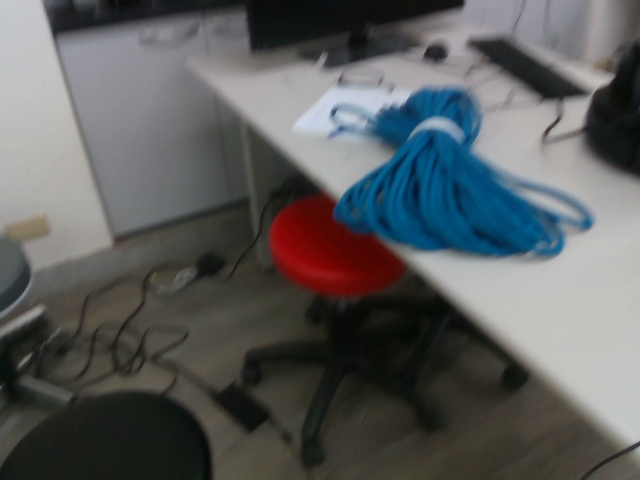rope: (325, 81, 602, 262)
